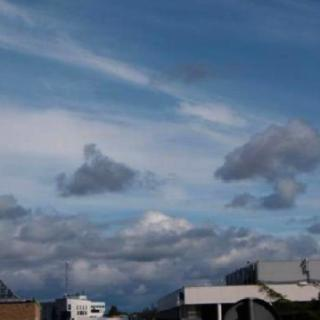Cumulus: (0, 0, 320, 294)
